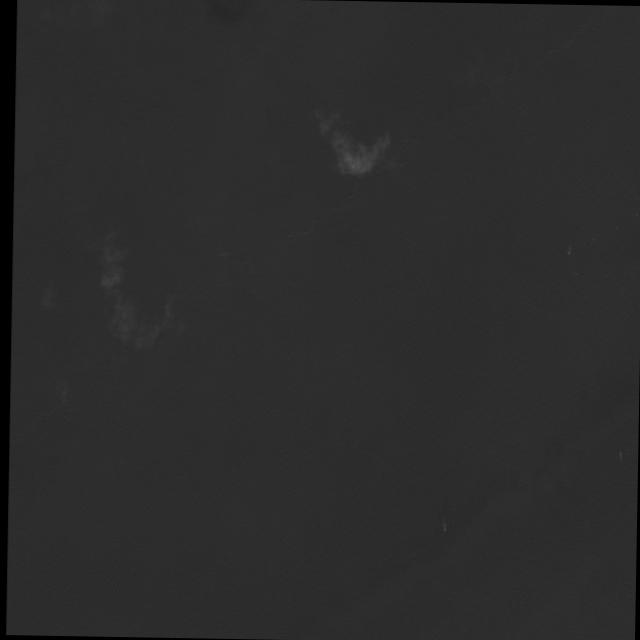ship: (567, 247, 571, 255), (443, 525, 446, 531), (619, 451, 621, 457)
